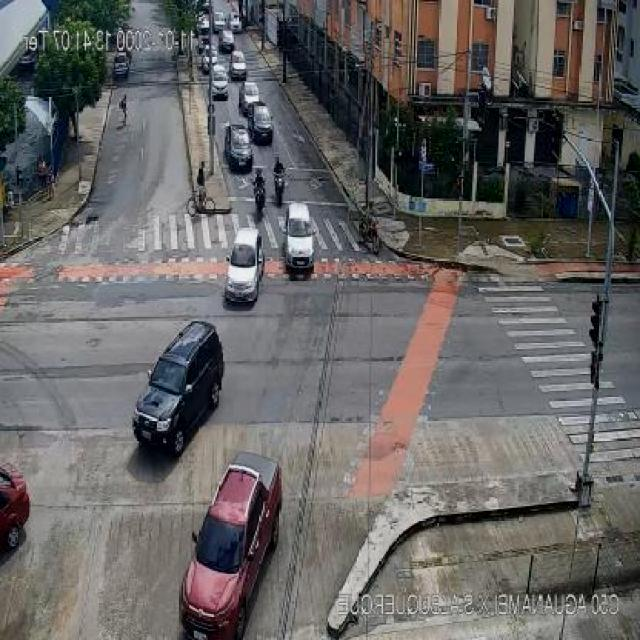Car: (133, 322, 224, 454), (224, 226, 265, 305), (0, 457, 30, 548), (283, 199, 317, 272), (224, 123, 254, 172), (246, 100, 276, 144), (238, 81, 260, 116), (210, 65, 230, 98), (229, 51, 247, 79), (200, 48, 219, 74), (113, 52, 130, 80), (220, 28, 236, 52), (227, 12, 242, 33), (212, 11, 226, 33), (197, 14, 210, 35), (197, 34, 212, 51)
Cycle: (183, 183, 217, 215), (356, 217, 382, 255), (249, 180, 268, 221), (271, 171, 287, 206)
Truck: (179, 449, 282, 640)
